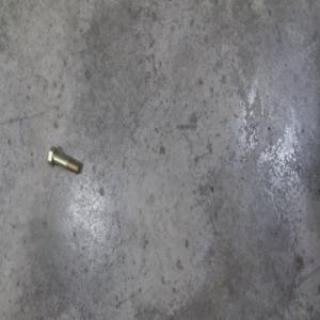Bolttrack_idkeyframe: (47, 144, 79, 176)
